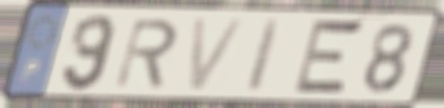8: (362, 21, 416, 97)
9: (61, 12, 118, 94)
E: (289, 14, 369, 100)
I: (243, 17, 287, 95)
R: (112, 16, 181, 90)
V: (185, 14, 251, 95)
